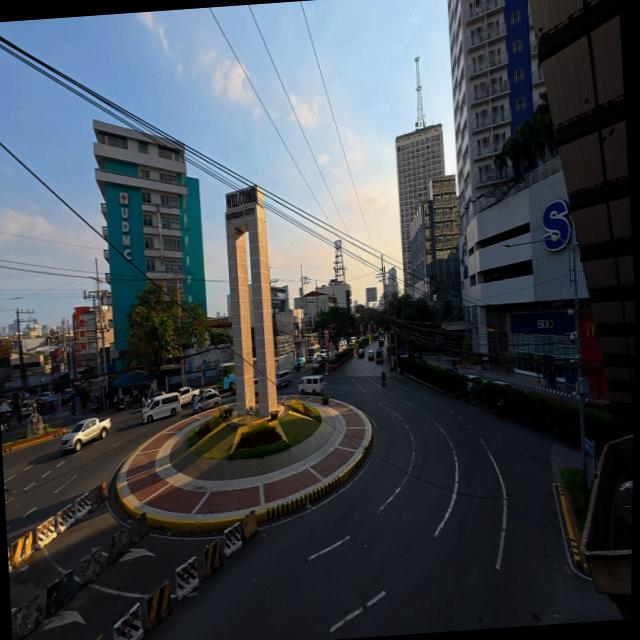Jeepneys: (376, 348, 384, 363)
car: (193, 391, 220, 413), (193, 388, 218, 406), (143, 391, 165, 410), (467, 375, 484, 392), (22, 400, 36, 417), (312, 359, 326, 374), (60, 389, 74, 403), (492, 380, 514, 388), (294, 357, 306, 368), (320, 350, 330, 361), (40, 392, 51, 401), (368, 350, 375, 361), (358, 348, 364, 359), (1, 423, 6, 436), (349, 337, 356, 346), (230, 383, 235, 395), (379, 337, 383, 347), (254, 377, 257, 390)
motorcycle: (115, 397, 128, 411), (1, 419, 9, 431), (4, 486, 9, 502), (381, 372, 386, 386), (71, 404, 76, 416)
trucks: (60, 418, 110, 453), (178, 387, 199, 406), (275, 355, 293, 372)
vans: (142, 393, 180, 423), (298, 375, 323, 395), (275, 369, 291, 388)
